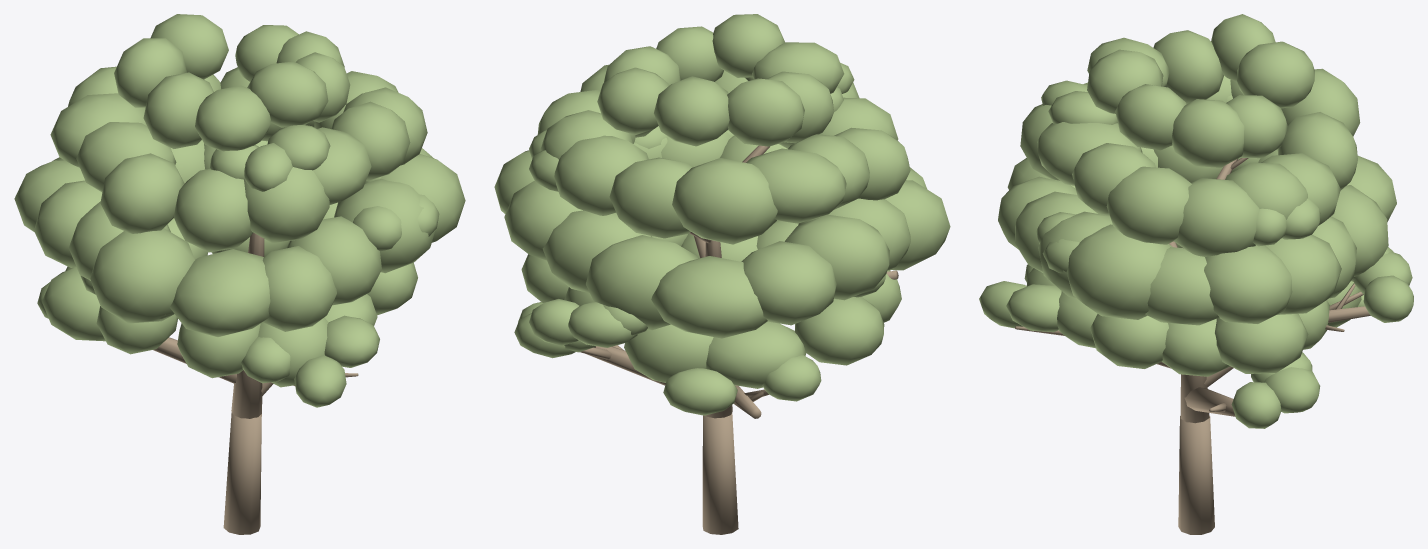
Rendered from cottonwood.glb.
The picture shows the model from 3 angles, left to right: view 1: azimuth 30°, elevation 25°; view 2: azimuth 150°, elevation 25°; view 3: azimuth 270°, elevation 25°; orthographic projection.
Parts seen in each view (by area): view 1: cottonwood; view 2: cottonwood; view 3: cottonwood.
Part boxes in pixels (box(x1,y1,x2,y2)): cottonwood: box(14, 14, 465, 534); cottonwood: box(494, 14, 950, 534); cottonwood: box(979, 14, 1413, 534).
Size of the model in its own units: 7.99 by 9.77 by 8.06.
